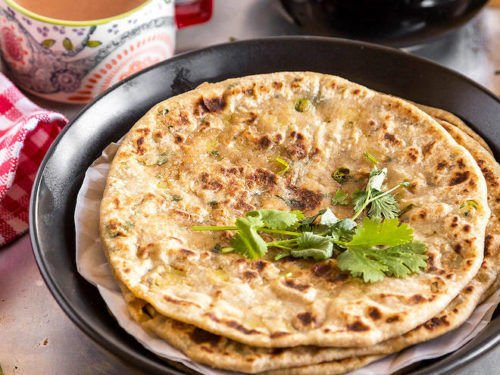aloo_paratha: (95, 69, 499, 374)
